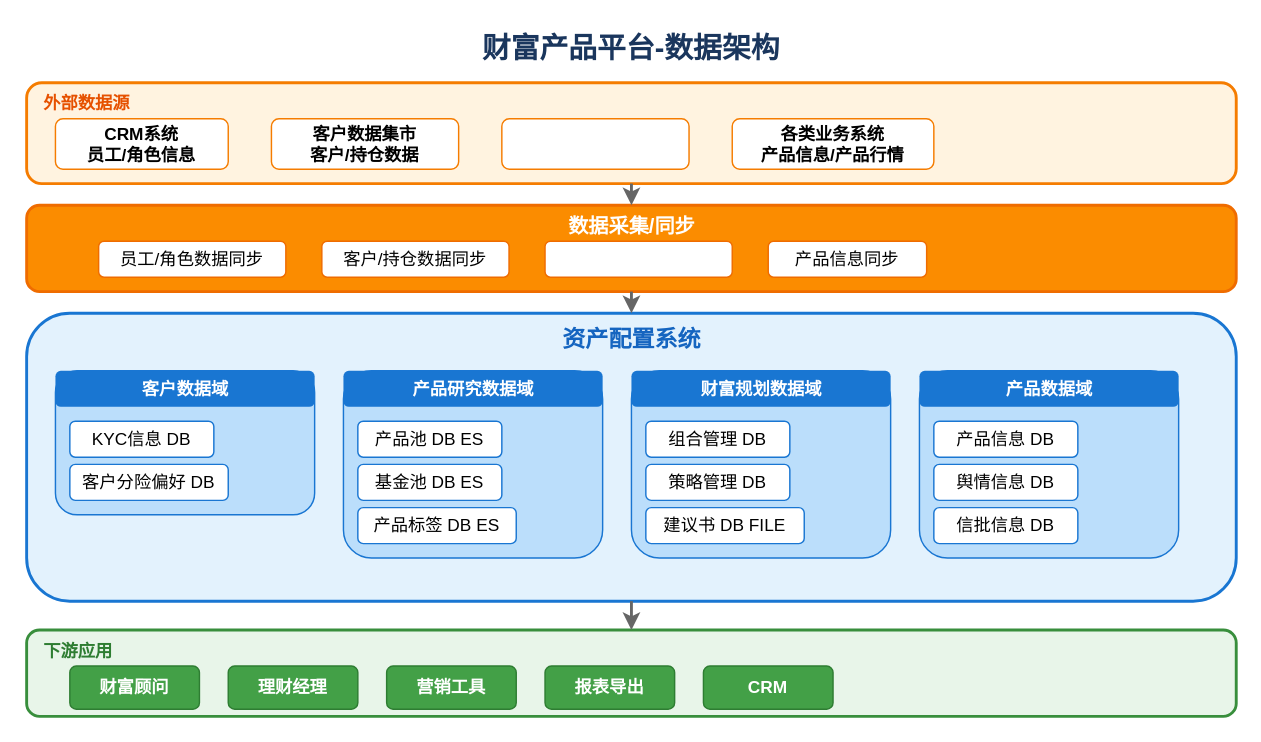
This 1261x742 diagram has some shape labels left out. The centre of each missing label's shape, as x and y in pixels:
聚源数据 资讯/行情信息: [594,143]
资讯/行情数据同步: [638,258]
